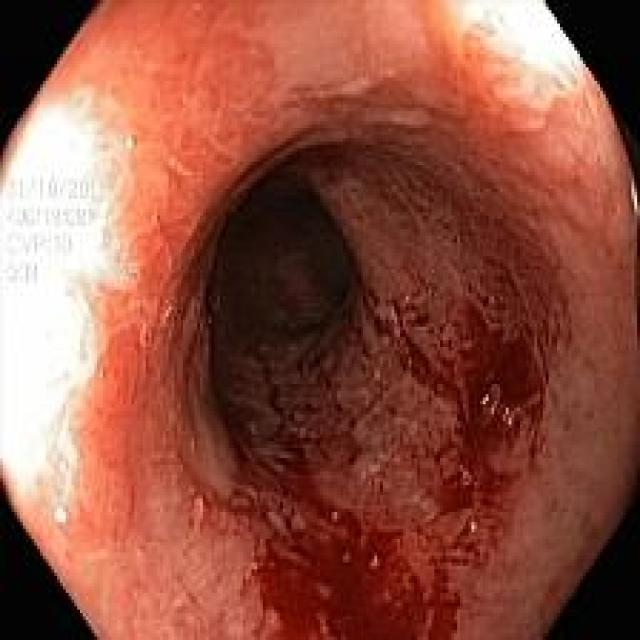ulcerative-colitis-grade-3: (0, 3, 640, 640)
